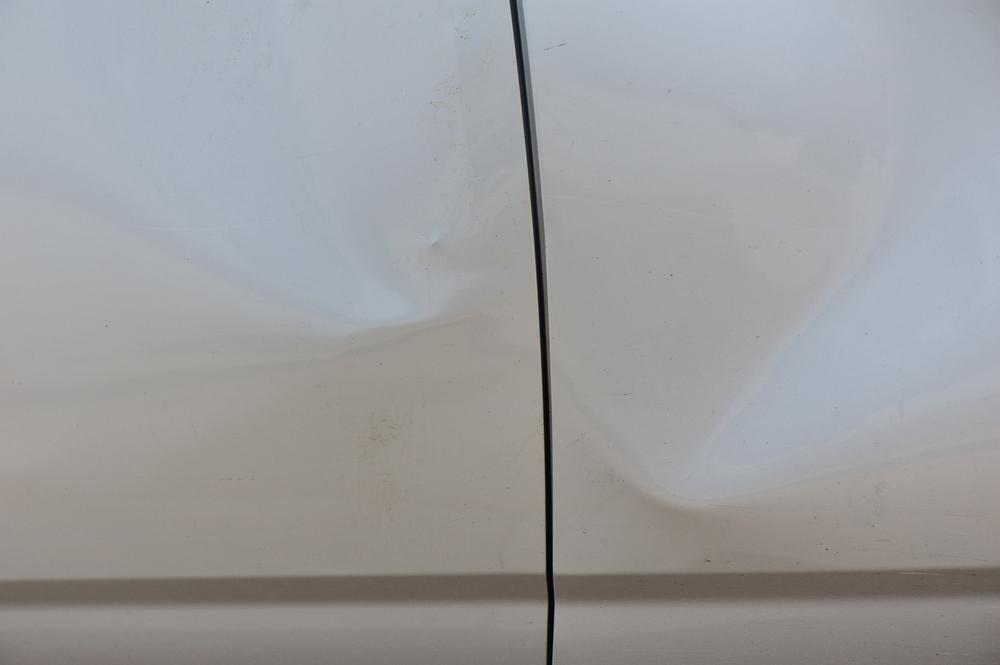dent: (572, 83, 957, 505), (104, 2, 442, 320)
